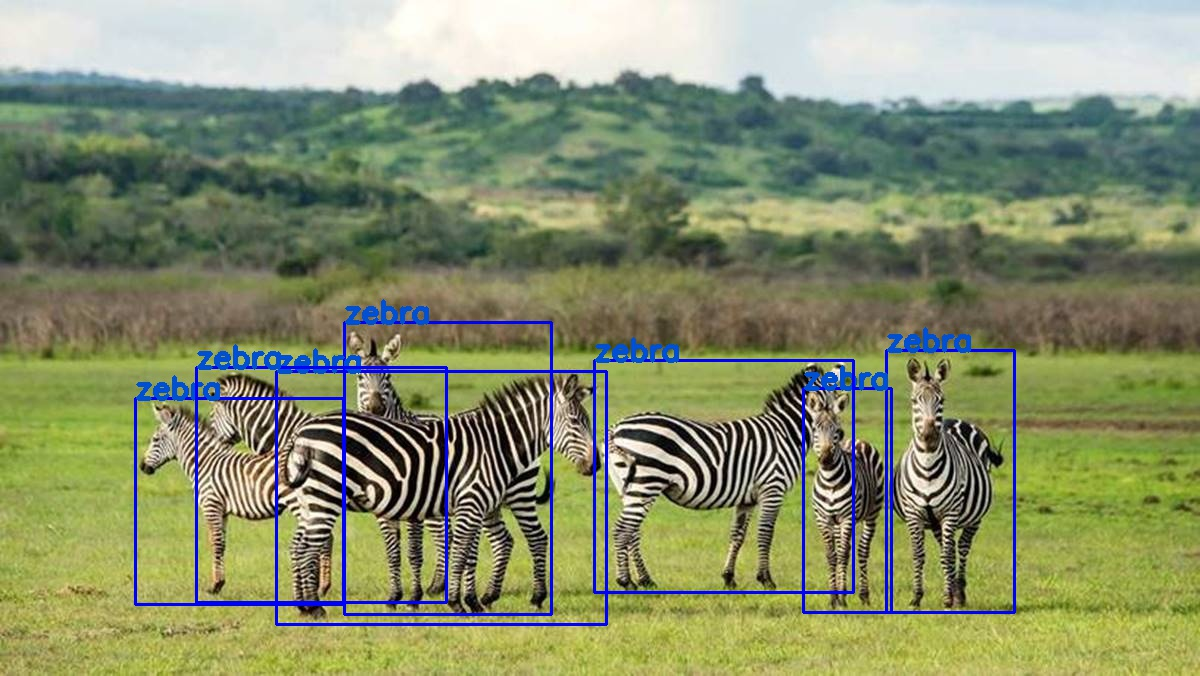zebra: (276, 371, 606, 624), (344, 322, 551, 614), (594, 360, 853, 591), (196, 367, 445, 601), (135, 397, 343, 603), (886, 349, 1014, 611), (802, 388, 890, 612)
